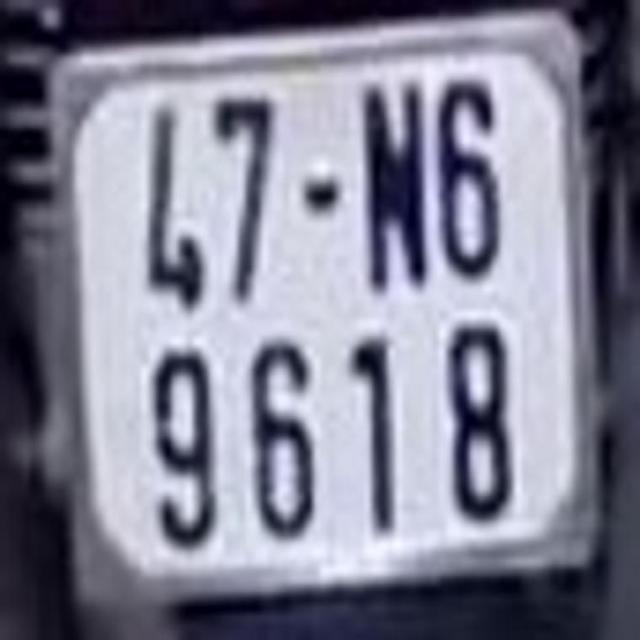1: (352, 338, 400, 532)
4: (148, 112, 214, 304)
6: (440, 83, 506, 280), (250, 343, 314, 536)
7: (217, 100, 264, 303)
8: (446, 332, 510, 516)
9: (149, 348, 218, 543)
N: (364, 88, 430, 285)
